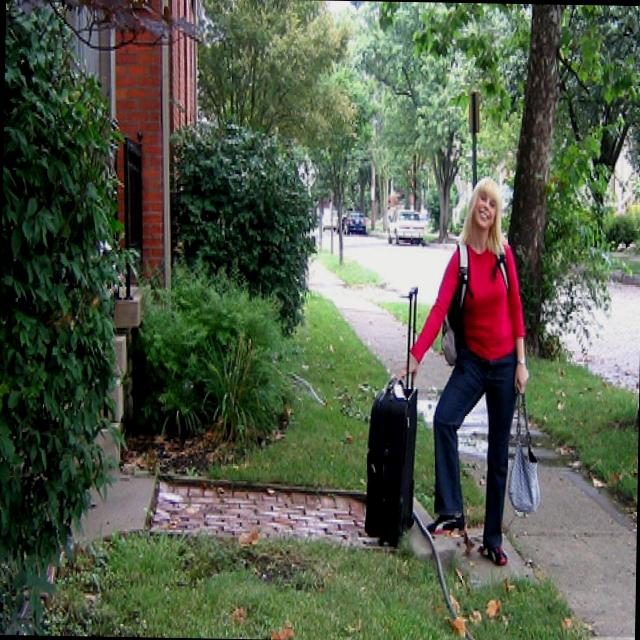Vehicle: (386, 209, 426, 246), (342, 209, 367, 235), (342, 213, 368, 234), (322, 208, 338, 232), (323, 217, 336, 230)
